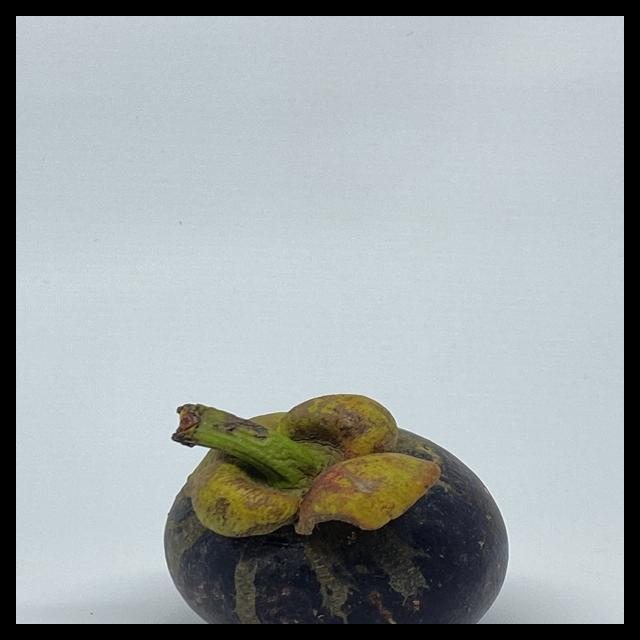mangosteen: (126, 369, 555, 624)
